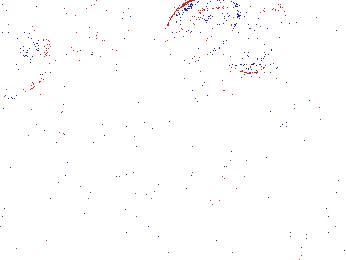moon jellyfish: (1, 1, 124, 61), (220, 2, 288, 75), (165, 1, 239, 67), (1, 23, 54, 101)
